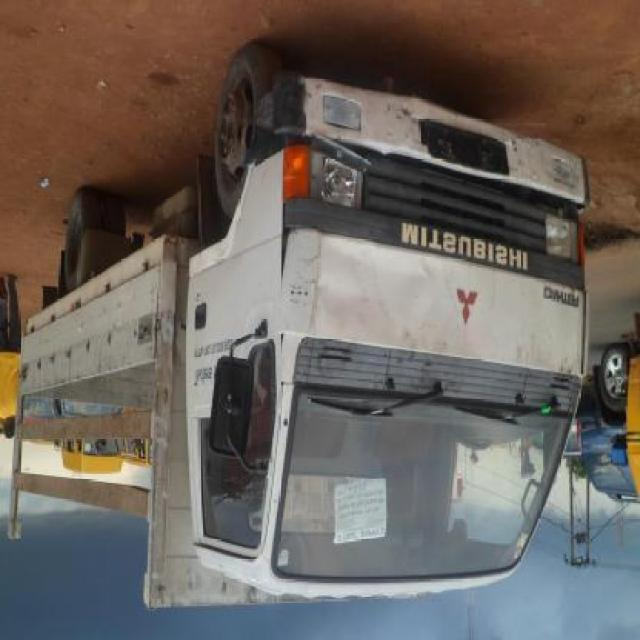truck: (7, 57, 589, 610)
